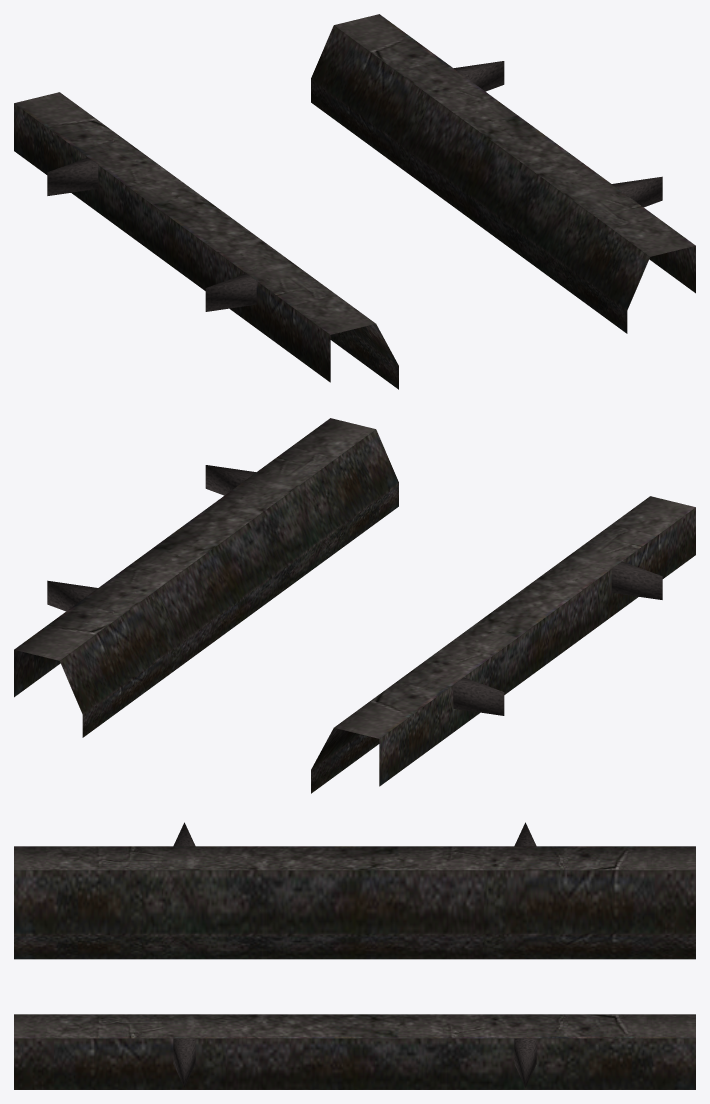
Rendered from canal_straight.fbx.
3 renders of one model, top to bottom at view 1: azimuth 30°, elevation 25°; view 2: azimuth 150°, elevation 25°; view 3: azimuth 270°, elevation 25°, orthographic. The views are drawn at different scales.
Visible parts, largest first — view 1: canal; view 2: canal; view 3: canal.
Boxes of the visible parts, x1,y1,x2,y2 form: canal: (14, 14, 695, 389); canal: (14, 418, 695, 793); canal: (14, 822, 695, 1089).
Bounding box in the file's own units: 1000 × 150 × 1200.
